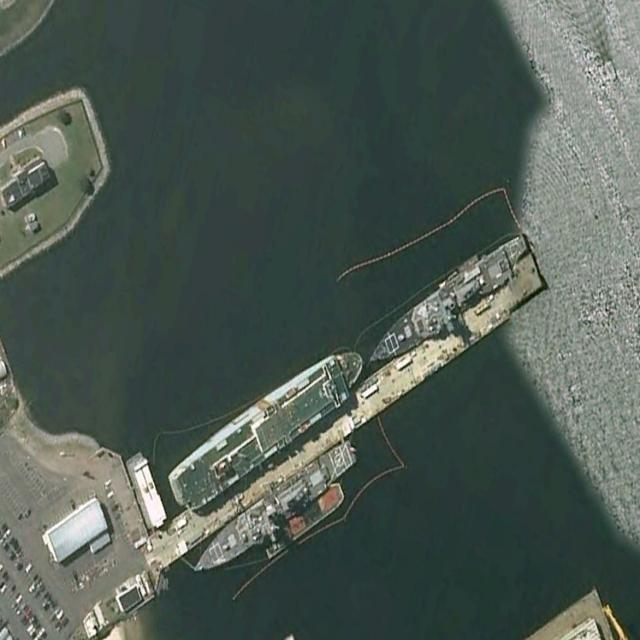Cargo: (162, 334, 373, 524)
Destroyer: (186, 436, 362, 587), (363, 224, 532, 376)
